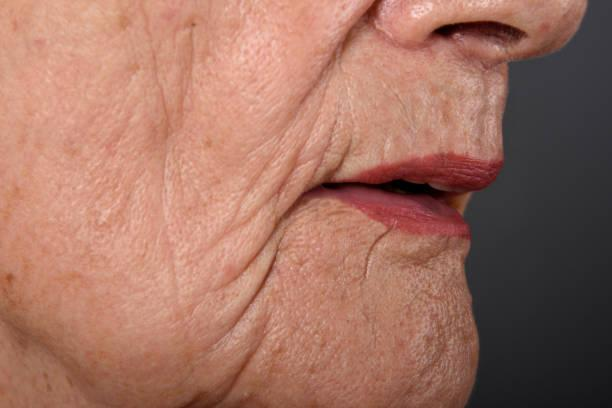Dry-Skin: (47, 13, 321, 362)
